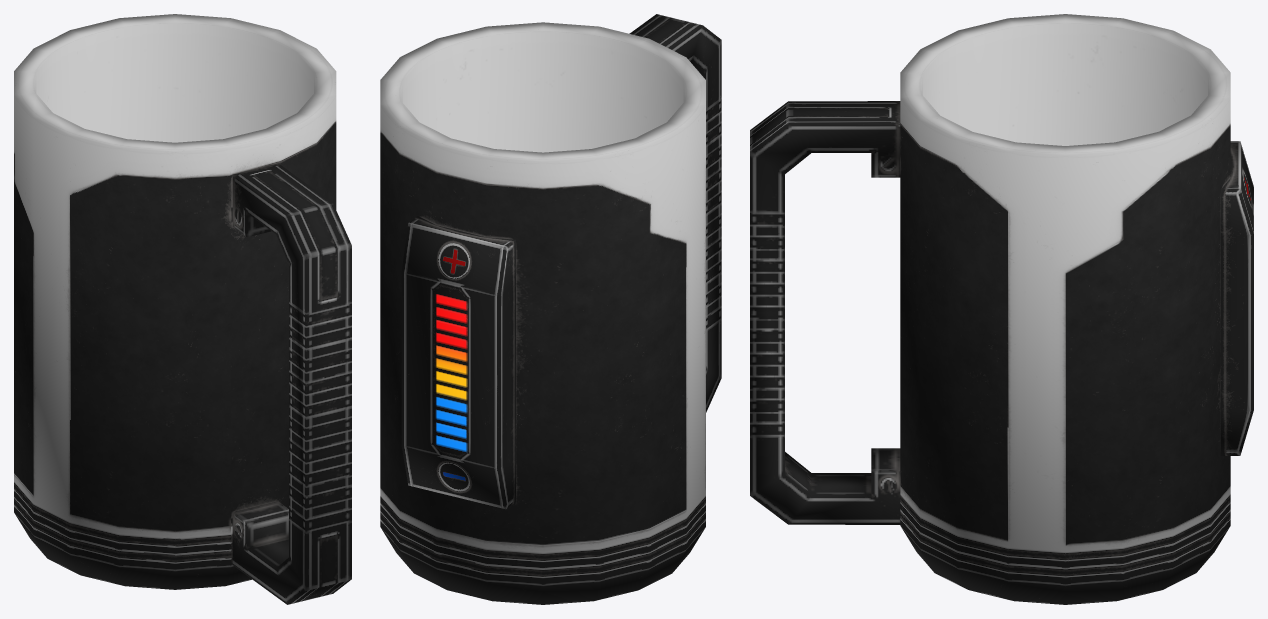
The model's file is cup.glb.
3 views of the same model, side by side, from view 1: azimuth 30°, elevation 25°; view 2: azimuth 150°, elevation 25°; view 3: azimuth 270°, elevation 25° (orthographic). The views are drawn at different scales.
Visible parts, largest first — view 1: Cup; view 2: Cup; view 3: Cup.
Part boxes in pixels (x1=…): Cup: x1=14, y1=14, x2=351, y2=604; Cup: x1=380, y1=14, x2=721, y2=604; Cup: x1=750, y1=14, x2=1253, y2=604.
Bounding box in the file's own units: 0.106 × 0.159 × 0.1591.
Materials: 1 (1 with a texture image).
